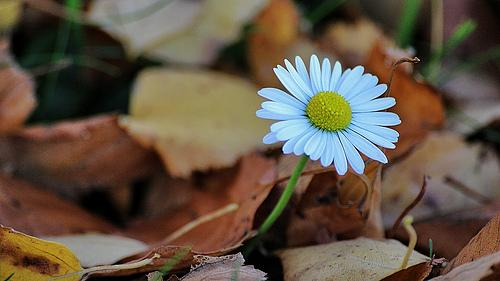daisy: (255, 53, 402, 177)
